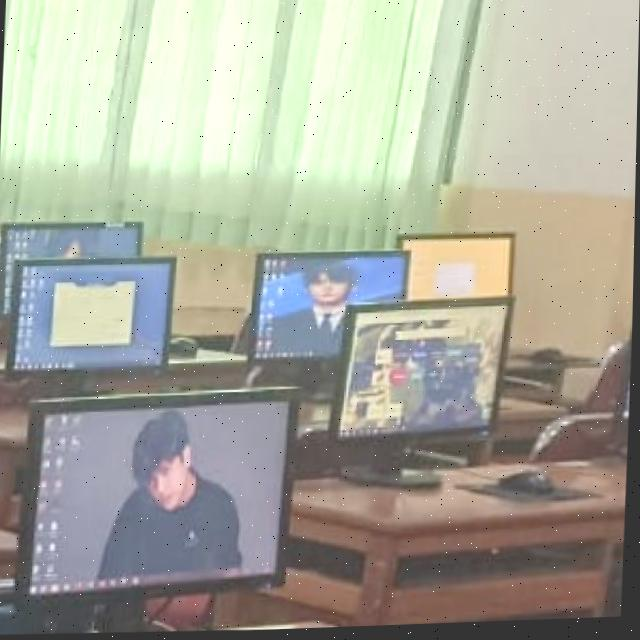onscreen: (22, 393, 296, 594), (340, 309, 509, 439), (11, 259, 175, 369), (251, 256, 409, 362), (0, 223, 143, 314), (399, 238, 516, 303)
